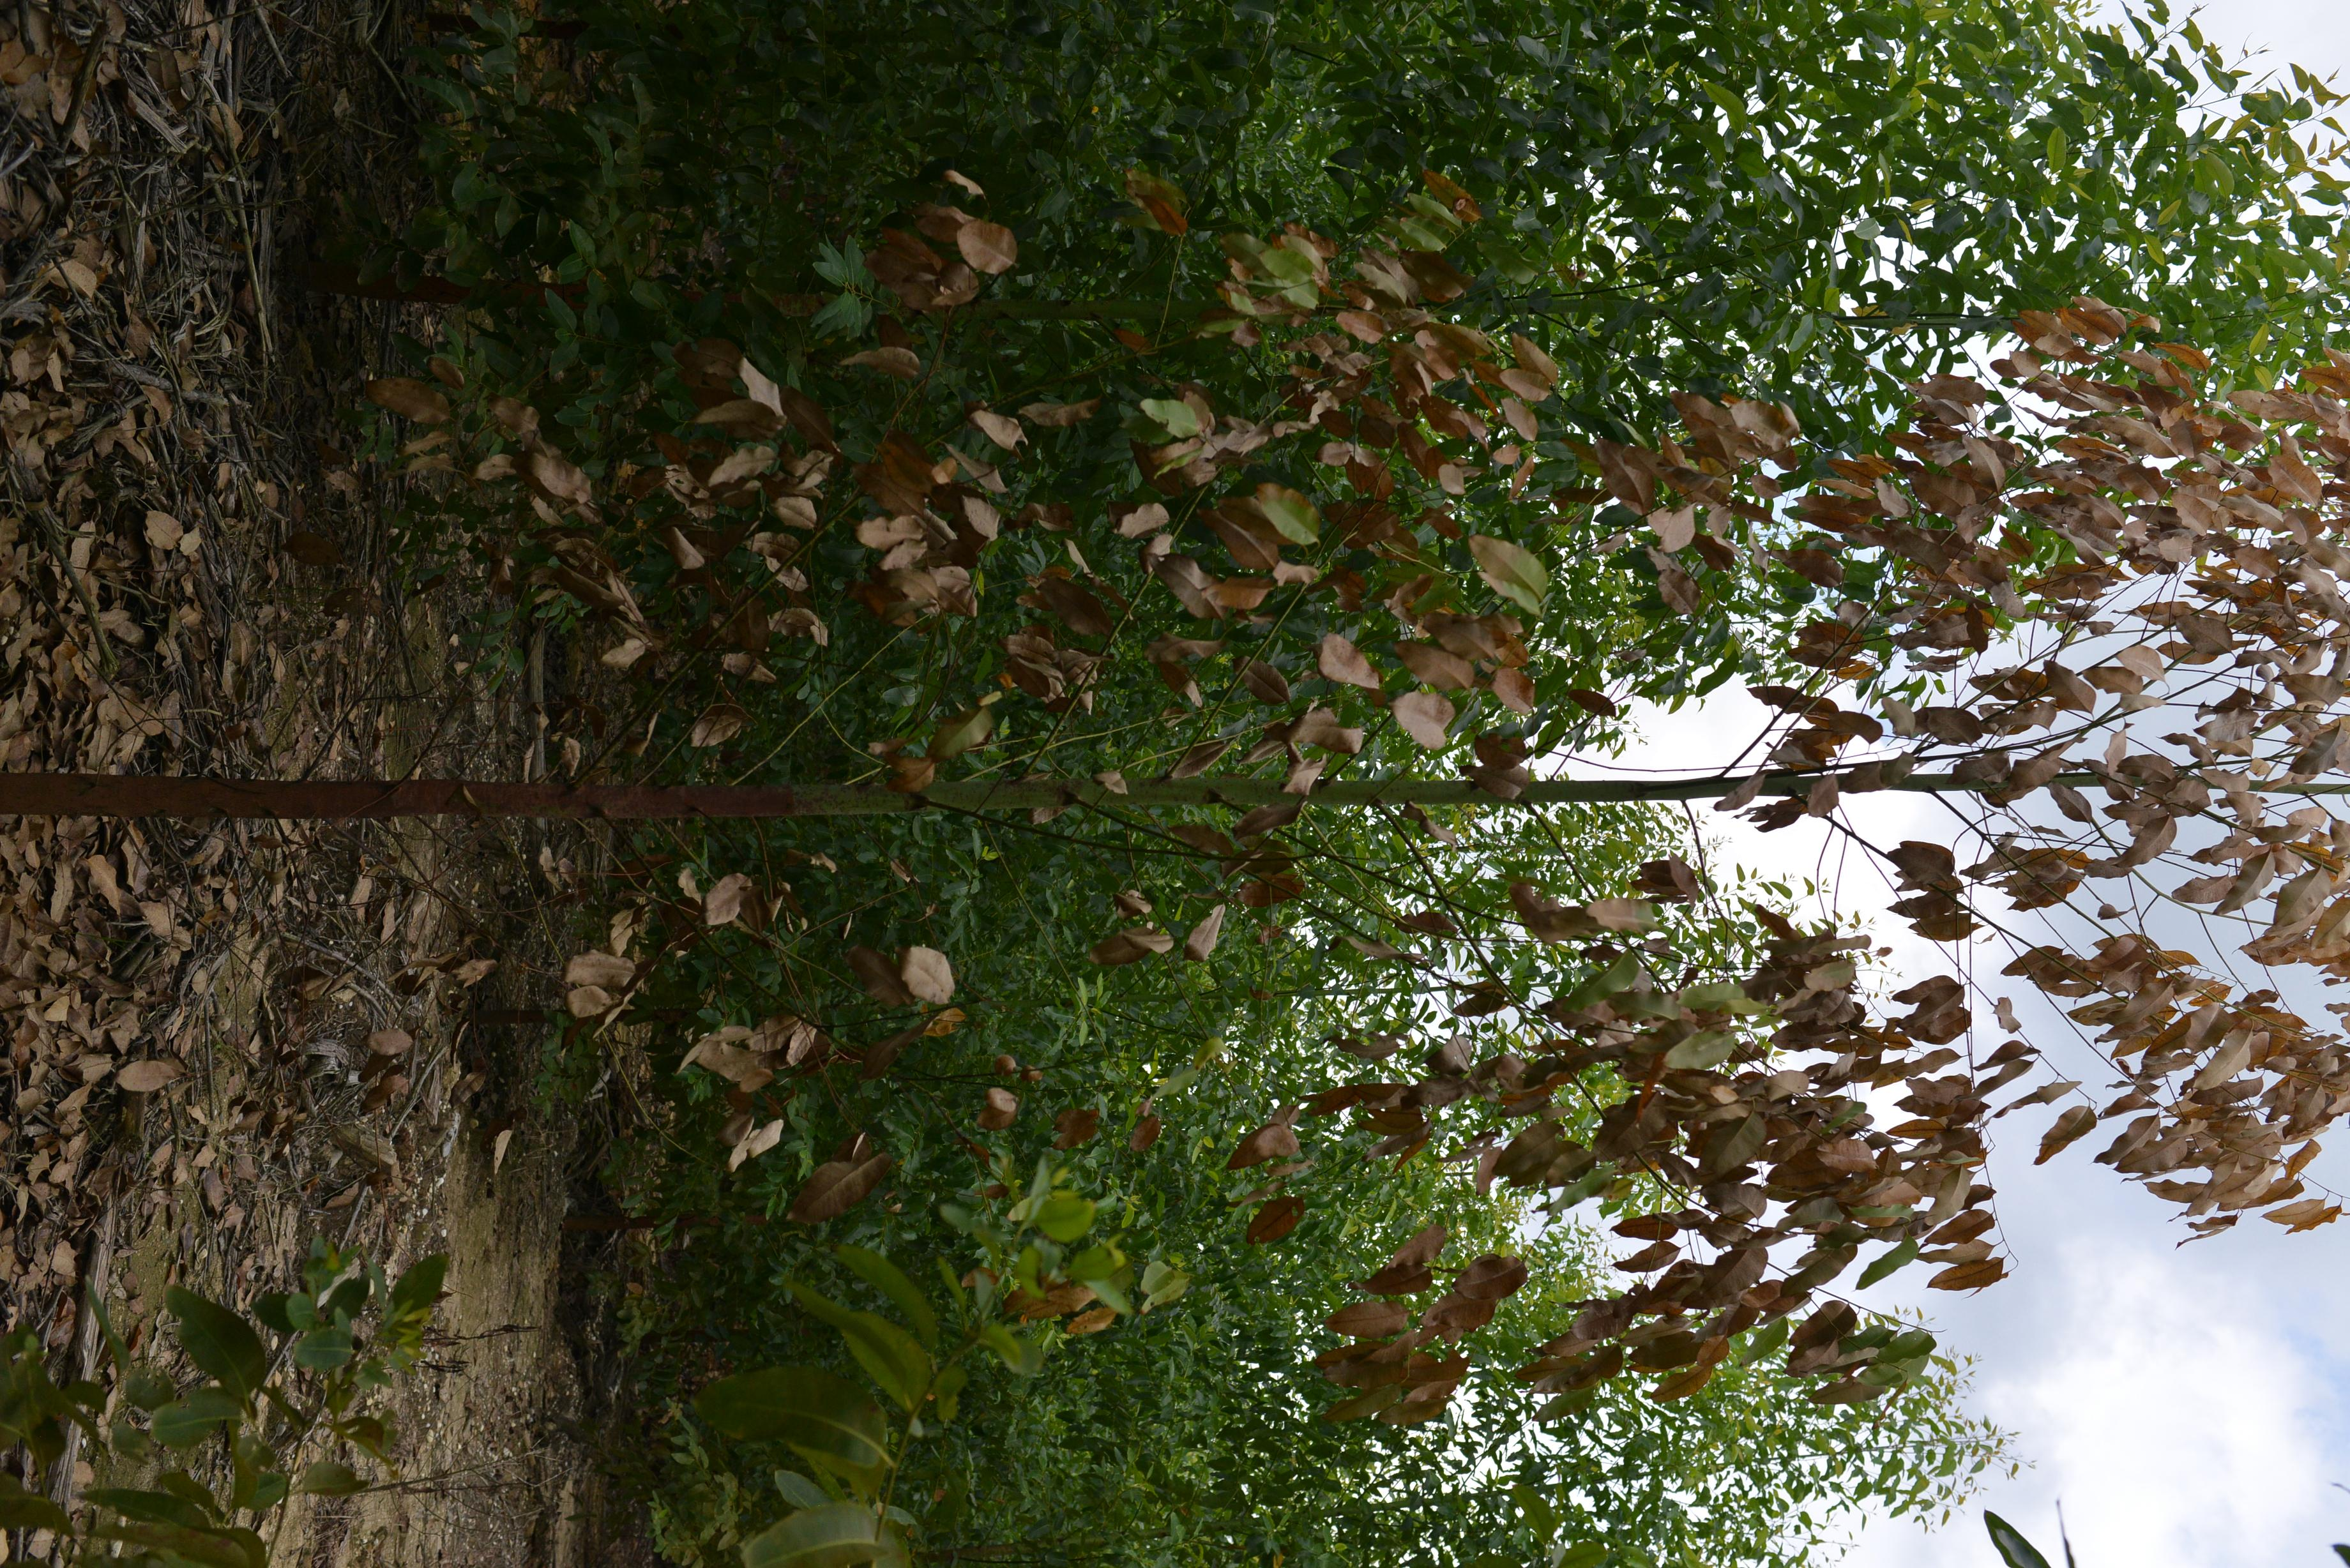Stem Deformation: (0, 163, 2350, 1421)
